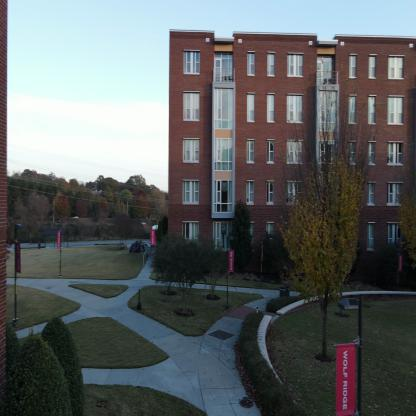Wolf Ridge: (155, 16, 416, 304)
